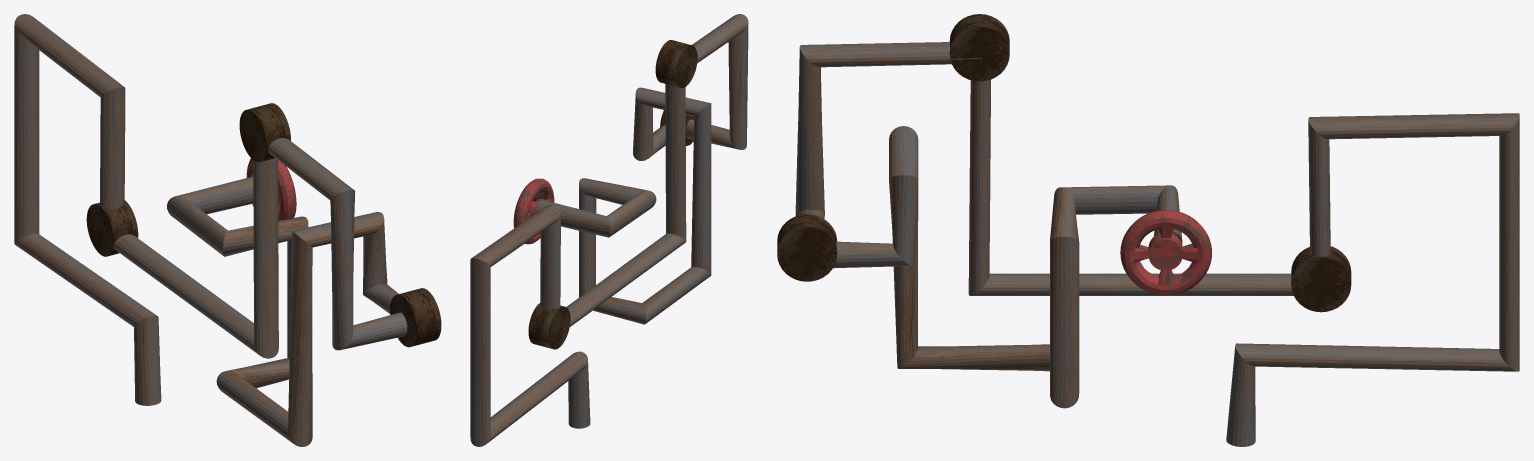
Rendered from Tubulacao3.fbx.
3 views of the same model, side by side, from view 1: azimuth 30°, elevation 25°; view 2: azimuth 150°, elevation 25°; view 3: azimuth 270°, elevation 25° (orthographic). The views are drawn at different scales.
Visible parts, largest first — view 1: Cube, Cylinder.001, Cylinder.002, Cylinder, Torus; view 2: Cube, Cylinder.002, Cylinder, Torus; view 3: Cube, Torus, Cylinder.002, Cylinder.001, Cylinder.
Boxes of the visible parts, x1=… form: Cube: x1=14, y1=14, x2=407, y2=446; Cylinder.001: x1=390, y1=288, x2=441, y2=347; Cylinder.002: x1=239, y1=103, x2=290, y2=162; Cylinder: x1=86, y1=200, x2=138, y2=256; Torus: x1=246, y1=158, x2=296, y2=220; Cube: x1=470, y1=14, x2=748, y2=446; Cylinder.002: x1=655, y1=40, x2=697, y2=87; Cylinder: x1=528, y1=303, x2=570, y2=349; Torus: x1=513, y1=178, x2=554, y2=244; Cube: x1=795, y1=42, x2=1519, y2=446; Torus: x1=1120, y1=210, x2=1211, y2=295; Cylinder.002: x1=949, y1=14, x2=1009, y2=81; Cylinder.001: x1=777, y1=214, x2=837, y2=281; Cylinder: x1=1291, y1=246, x2=1351, y2=312.
Size of the model in its own units: 165 by 537 by 858.
5 materials, 5 textured.
